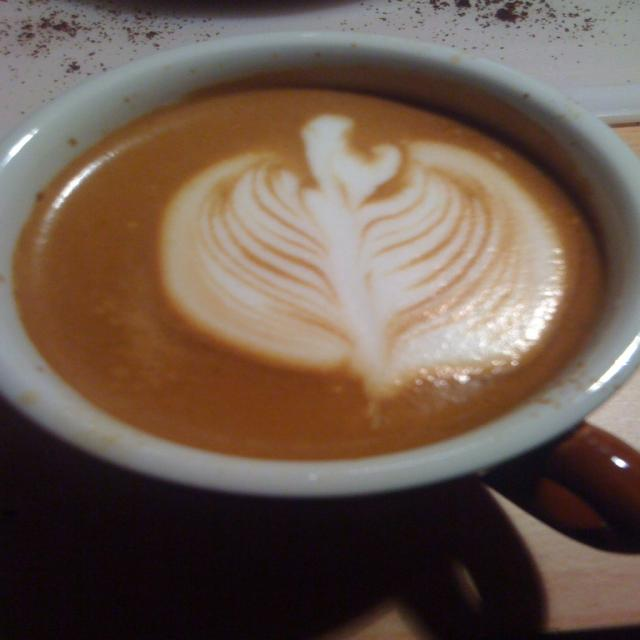latte: (3, 34, 640, 498)
